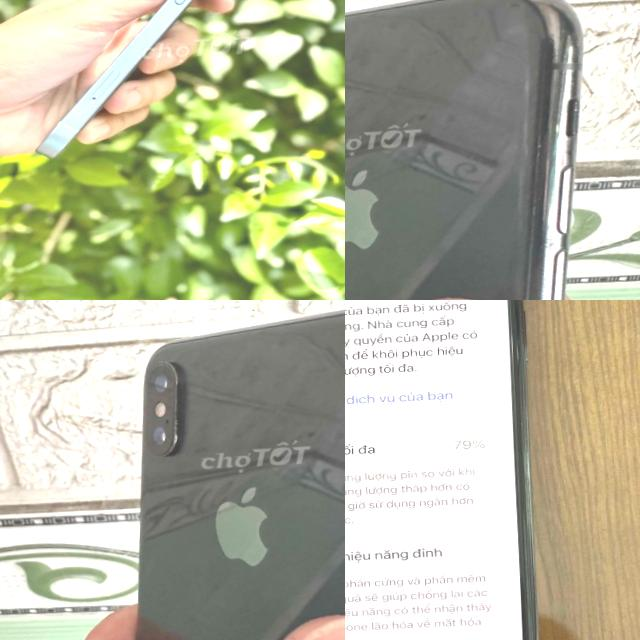scratch: (520, 115, 590, 300)
